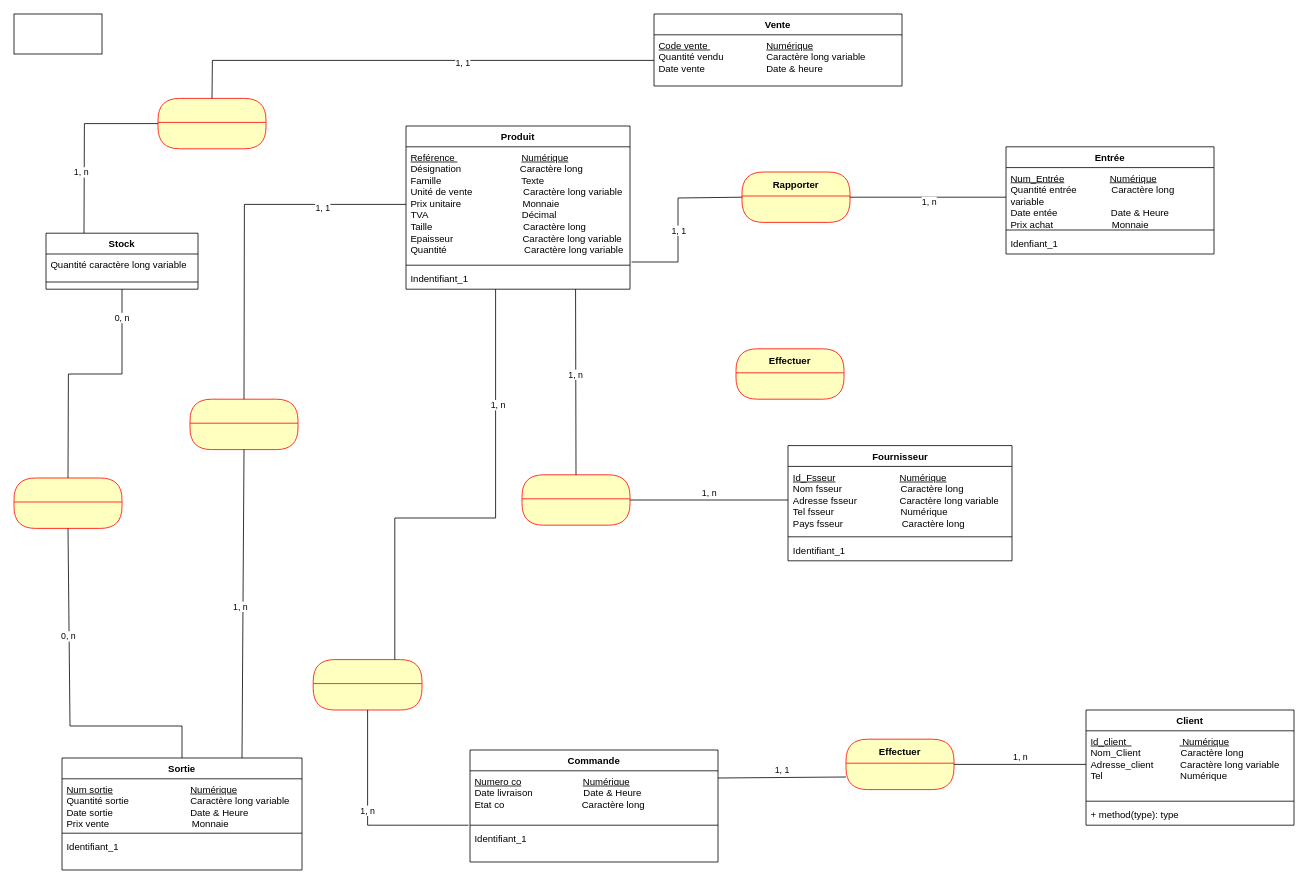
Some shapes in this 1308 by 886 pixel diagram are drawn without their labels. Each missing label, with the centre of its shape:
"Associer" goes at (x=67, y=502).
"Concerner" goes at (x=367, y=684).
"Correspondre" goes at (x=211, y=123).
"LIvrer" goes at (x=575, y=499).
"MCD" goes at (x=57, y=33).
"Rattacher" goes at (x=243, y=424).
